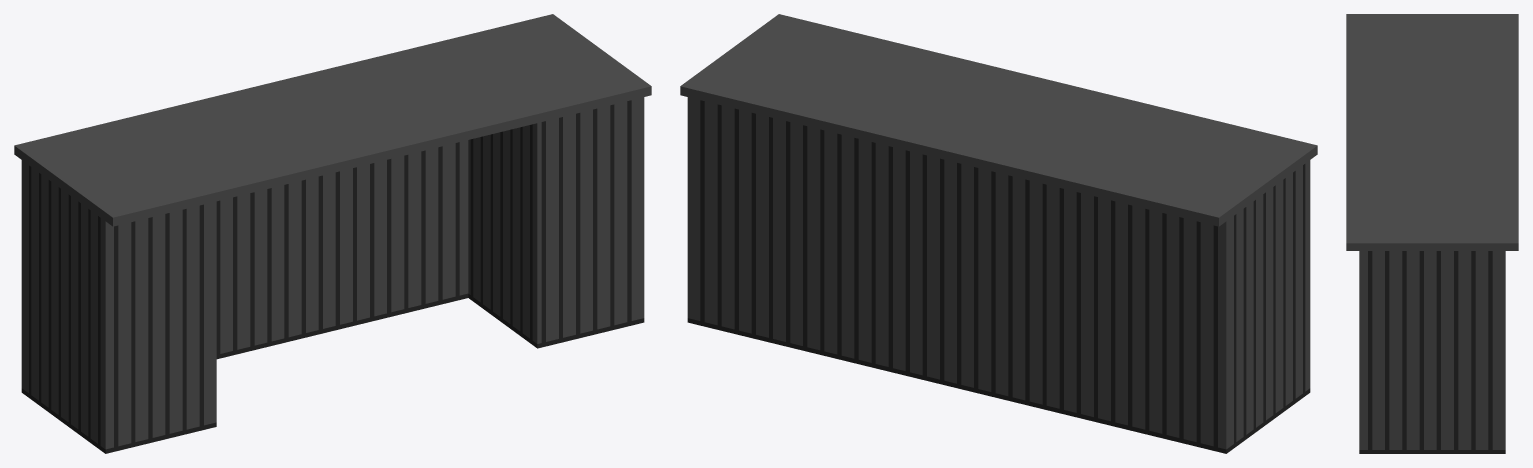
Rendered from kaunta-.obj.
3 views of the same model, side by side, from view 1: azimuth 30°, elevation 25°; view 2: azimuth 150°, elevation 25°; view 3: azimuth 270°, elevation 25° (orthographic). The views are drawn at different scales.
Bounding box in the file's own units: 12.6 × 5.4 × 4.
